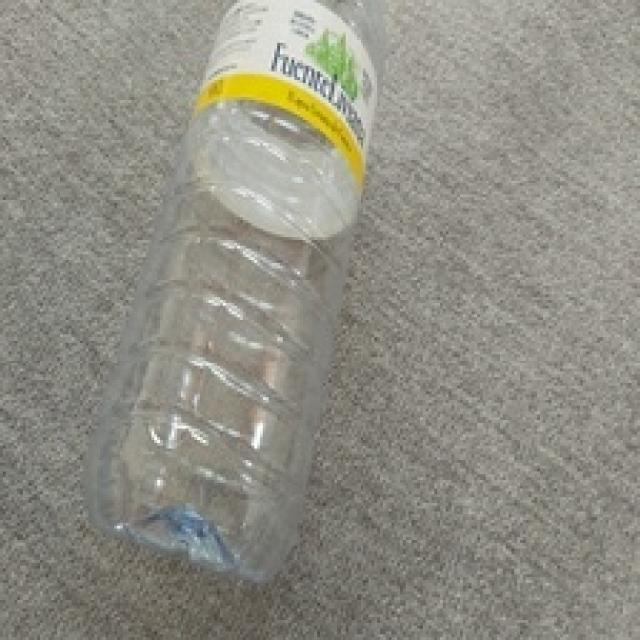Plastic: (94, 0, 388, 581)
